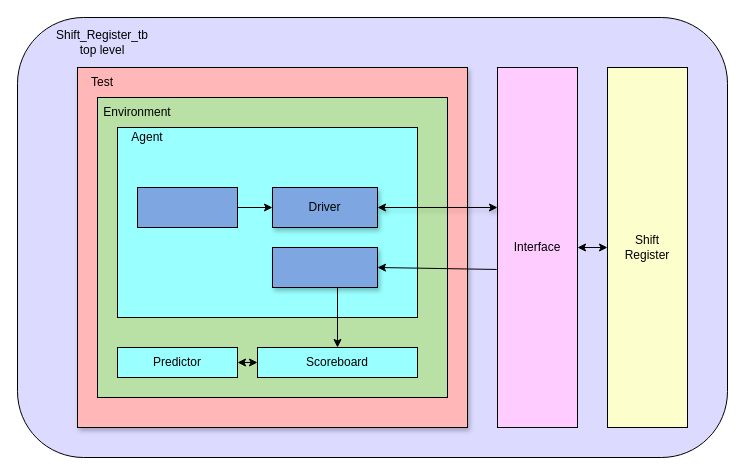
Image size: 745x475. Some labels were removed from this diagram. The centre of each missing label's shape, as x and y in pixels:
"Monitor" belongs at (326,268).
"Sequencer" belongs at (187,207).
